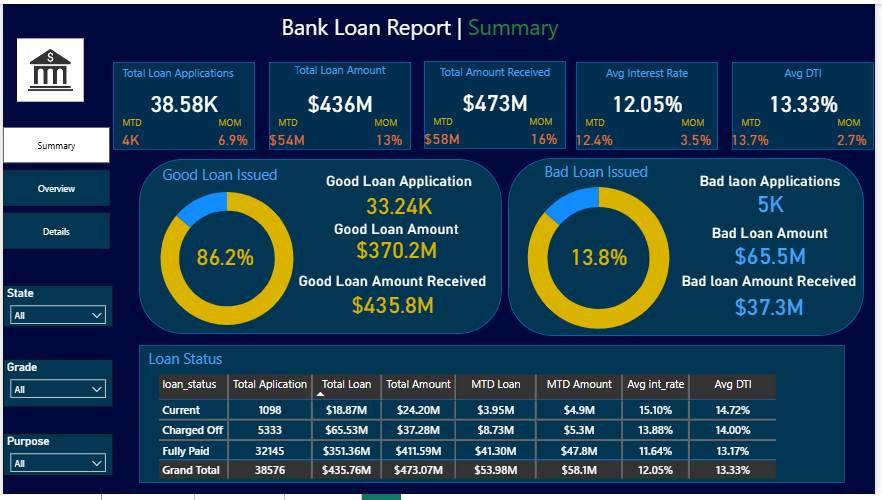

The page's visual inventory and layout, read from the dashboard file:
{"tool":"powerbi","page":{"name":"Summary","canvas":[1280,720],"ordinal":0},"visuals":[{"type":"group","id":"g1","title":"Group 1","box":[603.9,83.8,223.3,129.3],"z":0},{"type":"shape","box":[618.6,83.8,208.7,129.3],"z":0,"group":"g1"},{"type":"shape","box":[390.9,84.5,208.7,129.3],"z":0,"group":"g2"},{"type":"shape","box":[161.6,85.2,208.7,129.3],"z":0,"group":"g4"},{"type":"shape","box":[842,85.2,208.7,129.3],"z":0,"group":"g3"},{"type":"shape","box":[1071.2,85.2,208.7,129.3],"z":0,"group":"g5"},{"type":"advanceCardE03760C5AB684758B56AA29F9E6C257B","fields":{"mainMeasure":["financial_loan.Total Amount"]},"box":[661.2,119.1,123.4,54.4],"z":1000,"group":"g1"},{"type":"advanceCardE03760C5AB684758B56AA29F9E6C257B","fields":{"mainMeasure":["financial_loan.Total Loan"]},"box":[433.5,119.8,123.4,54.4],"z":1000,"group":"g2"},{"type":"advanceCardE03760C5AB684758B56AA29F9E6C257B","fields":{"mainMeasure":["financial_loan.Total Aplication"]},"box":[204.2,120.5,123.4,54.4],"z":1000,"group":"g4"},{"type":"advanceCardE03760C5AB684758B56AA29F9E6C257B","fields":{"mainMeasure":["financial_loan.Avg int"]},"box":[884.6,120.5,123.4,54.4],"z":1000,"group":"g3"},{"type":"advanceCardE03760C5AB684758B56AA29F9E6C257B","fields":{"mainMeasure":["Avg(financial_loan.dti)"]},"box":[1113.8,120.5,123.4,54.4],"z":1000,"group":"g5"},{"type":"shape","box":[199.8,501.1,1037.4,202.8],"z":1000},{"type":"group","id":"g2","title":"Group 1","box":[376.2,80.8,223.3,133.7],"z":2000},{"type":"advanceCardE03760C5AB684758B56AA29F9E6C257B","fields":{"mainMeasure":["financial_loan.MTD Amount"]},"box":[603.9,185.2,82.3,27.9],"z":2000,"group":"g1"},{"type":"advanceCardE03760C5AB684758B56AA29F9E6C257B","fields":{"mainMeasure":["financial_loan.MTD Loan"]},"box":[376.2,185.9,82.3,27.9],"z":2000,"group":"g2"},{"type":"advanceCardE03760C5AB684758B56AA29F9E6C257B","fields":{"mainMeasure":["financial_loan.MTD Application"]},"box":[146.9,186.6,82.3,27.9],"z":2000,"group":"g4"},{"type":"advanceCardE03760C5AB684758B56AA29F9E6C257B","fields":{"mainMeasure":["financial_loan.MTD int"]},"box":[827.3,186.6,82.3,27.9],"z":2000,"group":"g3"},{"type":"advanceCardE03760C5AB684758B56AA29F9E6C257B","fields":{"mainMeasure":["financial_loan.MTD dti"]},"box":[1056.5,186.6,82.3,27.9],"z":2000,"group":"g5"},{"type":"group","id":"g3","title":"Group 1","box":[827.3,85.2,223.3,129.3],"z":3000},{"type":"advanceCardE03760C5AB684758B56AA29F9E6C257B","fields":{"mainMeasure":["financial_loan.MOM Amount"]},"box":[762.6,183.7,64.7,29.4],"z":3000,"group":"g1"},{"type":"advanceCardE03760C5AB684758B56AA29F9E6C257B","fields":{"mainMeasure":["financial_loan.MOM Loan"]},"box":[534.9,184.5,64.7,29.4],"z":3000,"group":"g2"},{"type":"advanceCardE03760C5AB684758B56AA29F9E6C257B","fields":{"mainMeasure":["financial_loan.MOM App"]},"box":[305.6,185.1,64.7,29.4],"z":3000,"group":"g4"},{"type":"advanceCardE03760C5AB684758B56AA29F9E6C257B","fields":{"mainMeasure":["financial_loan.MOM int"]},"box":[986,185.1,64.7,29.4],"z":3000,"group":"g3"},{"type":"advanceCardE03760C5AB684758B56AA29F9E6C257B","fields":{"mainMeasure":["financial_loan.MOM dti"]},"box":[1215.2,185.1,64.7,29.4],"z":3000,"group":"g5"},{"type":"textbox","box":[401.1,80.8,188.1,39.7],"z":4000,"group":"g2"},{"type":"textbox","box":[627.4,83.8,191,35.3],"z":4000,"group":"g1"},{"type":"group","id":"g4","title":"Group 1","box":[146.9,85.2,223.3,129.3],"z":4000},{"type":"textbox","box":[170.4,85.2,191,35.3],"z":4000,"group":"g4"},{"type":"textbox","box":[850.8,85.2,191,35.3],"z":4000,"group":"g3"},{"type":"textbox","box":[1080,85.2,191,35.3],"z":4000,"group":"g5"},{"type":"group","id":"g5","title":"Group 1","box":[1056.5,85.2,223.3,129.3],"z":5000},{"type":"textbox","box":[627.4,158.7,47,27.9],"z":5000,"group":"g1"},{"type":"textbox","box":[399.7,159.5,47,27.9],"z":5000,"group":"g2"},{"type":"textbox","box":[170.4,160.1,47,27.9],"z":5000,"group":"g4"},{"type":"textbox","box":[850.8,160.1,47,27.9],"z":5000,"group":"g3"},{"type":"textbox","box":[1080,160.1,47,27.9],"z":5000,"group":"g5"},{"type":"textbox","box":[404.1,5.9,476.1,97],"z":6000},{"type":"textbox","box":[768.5,158.7,52.9,27.9],"z":6000,"group":"g1"},{"type":"textbox","box":[540.8,159.5,52.9,27.9],"z":6000,"group":"g2"},{"type":"textbox","box":[311.5,160.1,52.9,27.9],"z":6000,"group":"g4"},{"type":"textbox","box":[991.9,160.1,52.9,27.9],"z":6000,"group":"g3"},{"type":"textbox","box":[1221.1,160.1,52.9,27.9],"z":6000,"group":"g5"},{"type":"shape","box":[199.8,227.8,533.4,257.1],"z":7000},{"type":"donutChart","fields":{"Category":["financial_loan.Good Vs Bad"],"Y":["financial_loan.Total Aplication"]},"box":[157.2,246.9,343.8,254.2],"z":8000},{"type":"shape","box":[742,226.3,523.1,261.6],"z":9000},{"type":"donutChart","fields":{"Category":["financial_loan.Good Vs Bad"],"Y":["financial_loan.Total Aplication"]},"box":[699.4,238,351.2,270.4],"z":10000},{"type":"advanceCardE03760C5AB684758B56AA29F9E6C257B","title":"Good Loan Application","fields":{"mainMeasure":["financial_loan.Good App"]},"box":[458.4,246.9,246.9,76.4],"z":11000},{"type":"advanceCardE03760C5AB684758B56AA29F9E6C257B","title":"Bad laon Applications","fields":{"mainMeasure":["financial_loan.Bad App"]},"box":[1009.5,246.9,235.1,70.5],"z":12000},{"type":"advanceCardE03760C5AB684758B56AA29F9E6C257B","fields":{"mainMeasure":["financial_loan.Good Loan %"]},"box":[235.1,304.2,182.2,135.2],"z":13000},{"type":"advanceCardE03760C5AB684758B56AA29F9E6C257B","fields":{"mainMeasure":["financial_loan.Bad Loan %"]},"box":[781.7,296.8,186.6,149.9],"z":14000},{"type":"advanceCardE03760C5AB684758B56AA29F9E6C257B","title":"Good Loan Amount","fields":{"mainMeasure":["financial_loan.Good Loan"]},"box":[446.7,317.4,263,66.1],"z":15000},{"type":"advanceCardE03760C5AB684758B56AA29F9E6C257B","title":"Bad Loan Amount","fields":{"mainMeasure":["financial_loan.Bad Loan"]},"box":[1021.2,323.3,211.6,72],"z":16000},{"type":"advanceCardE03760C5AB684758B56AA29F9E6C257B","title":"Good  Loan Amount Received","fields":{"mainMeasure":["financial_loan.Good Loan Amount Received"]},"box":[426.1,393.8,292.4,74.9],"z":17000},{"type":"advanceCardE03760C5AB684758B56AA29F9E6C257B","title":"Bad loan Amount Received","fields":{"mainMeasure":["financial_loan.Bad Amount"]},"box":[986,393.8,279.2,80.8],"z":18000},{"type":"tableEx","fields":{"Values":["financial_loan.loan_status","financial_loan.Total Aplication","financial_loan.Total Loan","financial_loan.Total Amount","financial_loan.MTD Loan","financial_loan.MTD Amount","Avg(financial_loan.int_rate)","Avg(financial_loan.dti)"]},"box":[223.3,539.3,990.4,180.7],"z":19000},{"type":"textbox","box":[229.2,230.7,204.2,57.3],"z":20000},{"type":"textbox","box":[790.5,226.3,195.4,41.1],"z":21000},{"type":"textbox","box":[208.7,501.1,195.4,41.1],"z":22000},{"type":"slicer","title":"State","fields":{"Values":["financial_loan.address_state"]},"box":[0,412.9,161.6,61.7],"z":23000},{"type":"slicer","title":"Grade","fields":{"Values":["financial_loan.grade"]},"box":[0,521.6,161.6,70.5],"z":24000},{"type":"slicer","title":"Purpose","fields":{"Values":["financial_loan.purpose"]},"box":[0,630.4,161.6,63.2],"z":25000},{"type":"image","box":[20.6,45.6,98.4,102.9],"z":26000},{"type":"pageNavigator","box":[0,180.7,157.2,179.3],"z":27000}]}

Visuals, with their boxes in screenshot pixels (x1, y1, x2, y2), scaled from the page's 1280x720 canvas onto the 882x500 screenshot:
"Group 1" group: box=[416, 58, 570, 148]
shape: box=[426, 58, 570, 148]
shape: box=[269, 59, 413, 148]
shape: box=[111, 59, 255, 149]
shape: box=[580, 59, 724, 149]
shape: box=[738, 59, 881, 149]
advanceCardE03760C5AB684758B56AA29F9E6C257B - financial_loan.Total Amount: box=[456, 83, 541, 120]
advanceCardE03760C5AB684758B56AA29F9E6C257B - financial_loan.Total Loan: box=[299, 83, 384, 121]
advanceCardE03760C5AB684758B56AA29F9E6C257B - financial_loan.Total Aplication: box=[141, 84, 226, 121]
advanceCardE03760C5AB684758B56AA29F9E6C257B - financial_loan.Avg int: box=[610, 84, 695, 121]
advanceCardE03760C5AB684758B56AA29F9E6C257B - Avg(financial_loan.dti): box=[767, 84, 853, 121]
shape: box=[138, 348, 853, 489]
"Group 1" group: box=[259, 56, 413, 149]
advanceCardE03760C5AB684758B56AA29F9E6C257B - financial_loan.MTD Amount: box=[416, 129, 473, 148]
advanceCardE03760C5AB684758B56AA29F9E6C257B - financial_loan.MTD Loan: box=[259, 129, 316, 148]
advanceCardE03760C5AB684758B56AA29F9E6C257B - financial_loan.MTD Application: box=[101, 130, 158, 149]
advanceCardE03760C5AB684758B56AA29F9E6C257B - financial_loan.MTD int: box=[570, 130, 627, 149]
advanceCardE03760C5AB684758B56AA29F9E6C257B - financial_loan.MTD dti: box=[728, 130, 785, 149]
"Group 1" group: box=[570, 59, 724, 149]
advanceCardE03760C5AB684758B56AA29F9E6C257B - financial_loan.MOM Amount: box=[525, 128, 570, 148]
advanceCardE03760C5AB684758B56AA29F9E6C257B - financial_loan.MOM Loan: box=[369, 128, 413, 149]
advanceCardE03760C5AB684758B56AA29F9E6C257B - financial_loan.MOM App: box=[211, 129, 255, 149]
advanceCardE03760C5AB684758B56AA29F9E6C257B - financial_loan.MOM int: box=[679, 129, 724, 149]
advanceCardE03760C5AB684758B56AA29F9E6C257B - financial_loan.MOM dti: box=[837, 129, 881, 149]
textbox: box=[276, 56, 406, 84]
textbox: box=[432, 58, 564, 83]
"Group 1" group: box=[101, 59, 255, 149]
textbox: box=[117, 59, 249, 84]
textbox: box=[586, 59, 718, 84]
textbox: box=[744, 59, 876, 84]
"Group 1" group: box=[728, 59, 881, 149]
textbox: box=[432, 110, 465, 130]
textbox: box=[275, 111, 308, 130]
textbox: box=[117, 111, 150, 131]
textbox: box=[586, 111, 619, 131]
textbox: box=[744, 111, 777, 131]
textbox: box=[278, 4, 607, 71]
textbox: box=[530, 110, 566, 130]
textbox: box=[373, 111, 409, 130]
textbox: box=[215, 111, 251, 131]
textbox: box=[683, 111, 720, 131]
textbox: box=[841, 111, 878, 131]
shape: box=[138, 158, 505, 337]
donutChart - financial_loan.Good Vs Bad x financial_loan.Total Aplication: box=[108, 171, 345, 348]
shape: box=[511, 157, 872, 339]
donutChart - financial_loan.Good Vs Bad x financial_loan.Total Aplication: box=[482, 165, 724, 353]
"Good Loan Application" advanceCardE03760C5AB684758B56AA29F9E6C257B: box=[316, 171, 486, 225]
"Bad laon Applications" advanceCardE03760C5AB684758B56AA29F9E6C257B: box=[696, 171, 858, 220]
advanceCardE03760C5AB684758B56AA29F9E6C257B - financial_loan.Good Loan %: box=[162, 211, 288, 305]
advanceCardE03760C5AB684758B56AA29F9E6C257B - financial_loan.Bad Loan %: box=[539, 206, 667, 310]
"Good Loan Amount" advanceCardE03760C5AB684758B56AA29F9E6C257B: box=[308, 220, 489, 266]
"Bad Loan Amount" advanceCardE03760C5AB684758B56AA29F9E6C257B: box=[704, 225, 849, 275]
"Good  Loan Amount Received" advanceCardE03760C5AB684758B56AA29F9E6C257B: box=[294, 273, 495, 325]
"Bad loan Amount Received" advanceCardE03760C5AB684758B56AA29F9E6C257B: box=[679, 273, 872, 330]
tableEx - financial_loan.loan_status x financial_loan.Total Aplication: box=[154, 375, 836, 499]
textbox: box=[158, 160, 299, 200]
textbox: box=[545, 157, 679, 186]
textbox: box=[144, 348, 278, 377]
"State" slicer: box=[0, 287, 111, 330]
"Grade" slicer: box=[0, 362, 111, 411]
"Purpose" slicer: box=[0, 438, 111, 482]
image: box=[14, 32, 82, 103]
pageNavigator: box=[0, 125, 108, 250]
